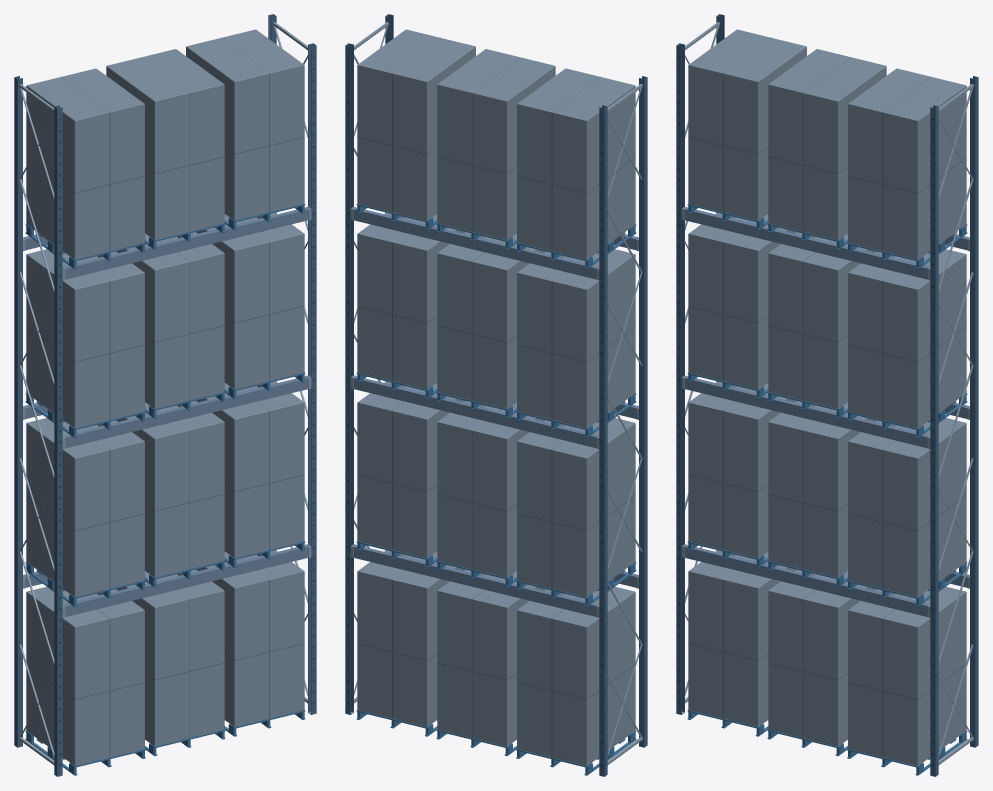
Rendered from SM_GHS_CADRack_A_W37138.fbx.
3 views of the same model, side by side, from view 1: azimuth 30°, elevation 25°; view 2: azimuth 150°, elevation 25°; view 3: azimuth 330°, elevation 25° (orthographic).
Parts seen in each view (by area): view 1: SM_GHS_CADRack_A_W37138; view 2: SM_GHS_CADRack_A_W37138; view 3: SM_GHS_CADRack_A_W37138.
Part boxes in pixels (x1,y1,x2,y2): SM_GHS_CADRack_A_W37138: [14, 14, 316, 776]; SM_GHS_CADRack_A_W37138: [345, 14, 647, 776]; SM_GHS_CADRack_A_W37138: [676, 14, 978, 776].
Bounding box in the file's own units: 371 × 122 × 915.
